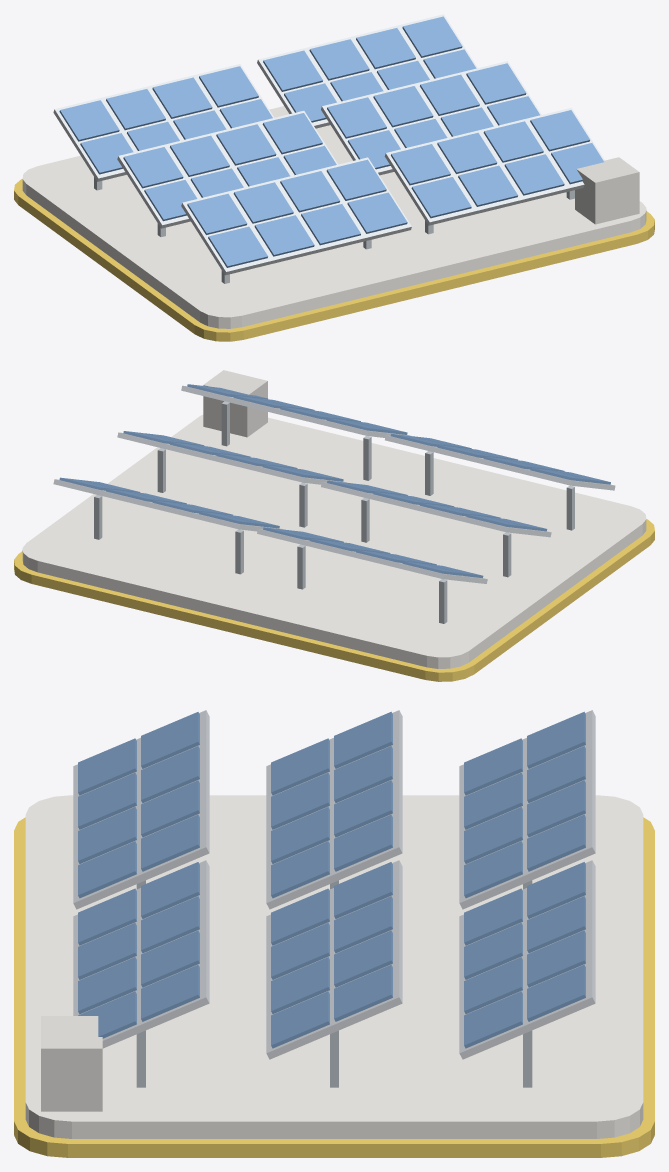
File: solar.glb
3 views of the same model, one above another, from view 1: azimuth 30°, elevation 25°; view 2: azimuth 150°, elevation 25°; view 3: azimuth 270°, elevation 25° (orthographic). The views are drawn at different scales.
Parts seen in each view (by area): view 1: panel, base, panel_frame, rim_f0b429, concrete, metal; view 2: base, panel, rim_f0b429, panel_frame, metal, concrete; view 3: base, panel, panel_frame, rim_f0b429, concrete, metal.
Boxes of the visible parts, x1,y1,x2,y2 form: panel: [59, 16, 603, 267]; base: [22, 106, 646, 328]; panel_frame: [53, 14, 604, 275]; rim_f0b429: [14, 179, 654, 341]; concrete: [575, 157, 639, 224]; metal: [94, 177, 574, 283]; base: [22, 415, 646, 668]; panel: [59, 384, 610, 578]; rim_f0b429: [14, 519, 654, 681]; panel_frame: [53, 385, 615, 583]; metal: [94, 401, 574, 623]; concrete: [203, 370, 267, 437]; base: [25, 795, 643, 1138]; panel: [78, 711, 585, 1048]; panel_frame: [73, 710, 595, 1059]; rim_f0b429: [14, 817, 654, 1157]; concrete: [41, 1016, 102, 1111]; metal: [136, 880, 532, 1087].
Size of the model in its own units: 10.3 by 1.95 by 8.3.
